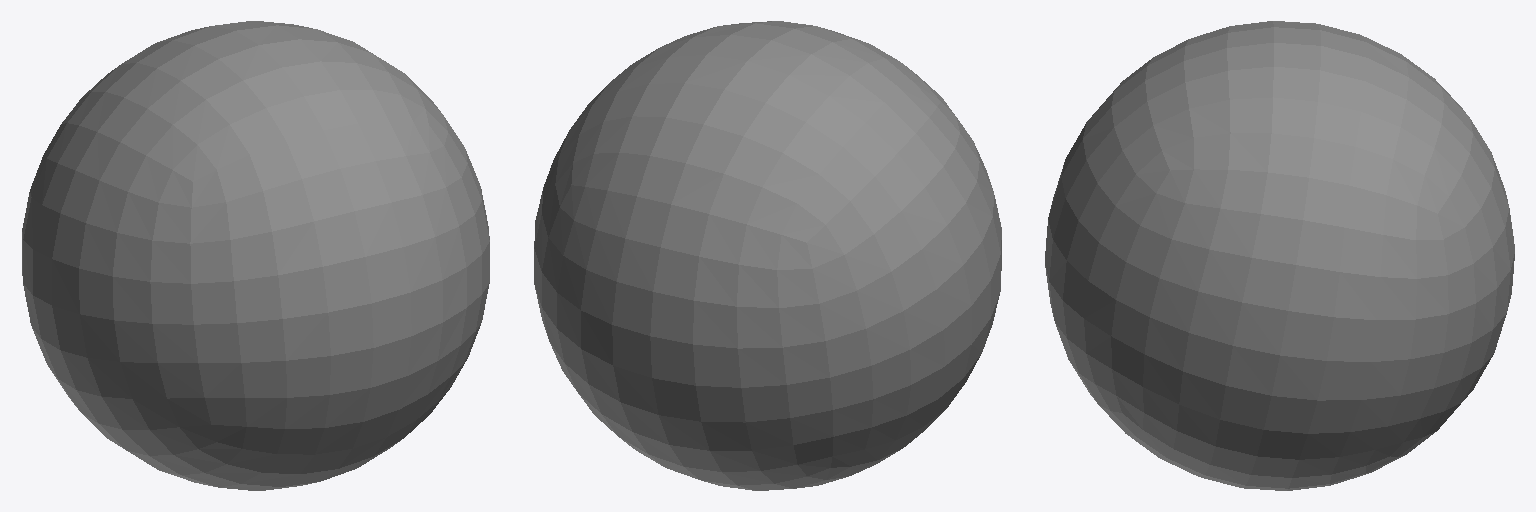
File: golf_ball.obj
3 renders of one model, left to right at view 1: azimuth 30°, elevation 25°; view 2: azimuth 150°, elevation 25°; view 3: azimuth 270°, elevation 25°, orthographic.
Parts seen in each view (by area): view 1: golf_ball; view 2: golf_ball; view 3: golf_ball.
Part boxes in pixels (x1,y1,x2,y2): golf_ball: (22,21,489,490); golf_ball: (534,21,1001,490); golf_ball: (1045,21,1514,490).
Size of the model in its own units: 8.49 by 8.49 by 8.49.